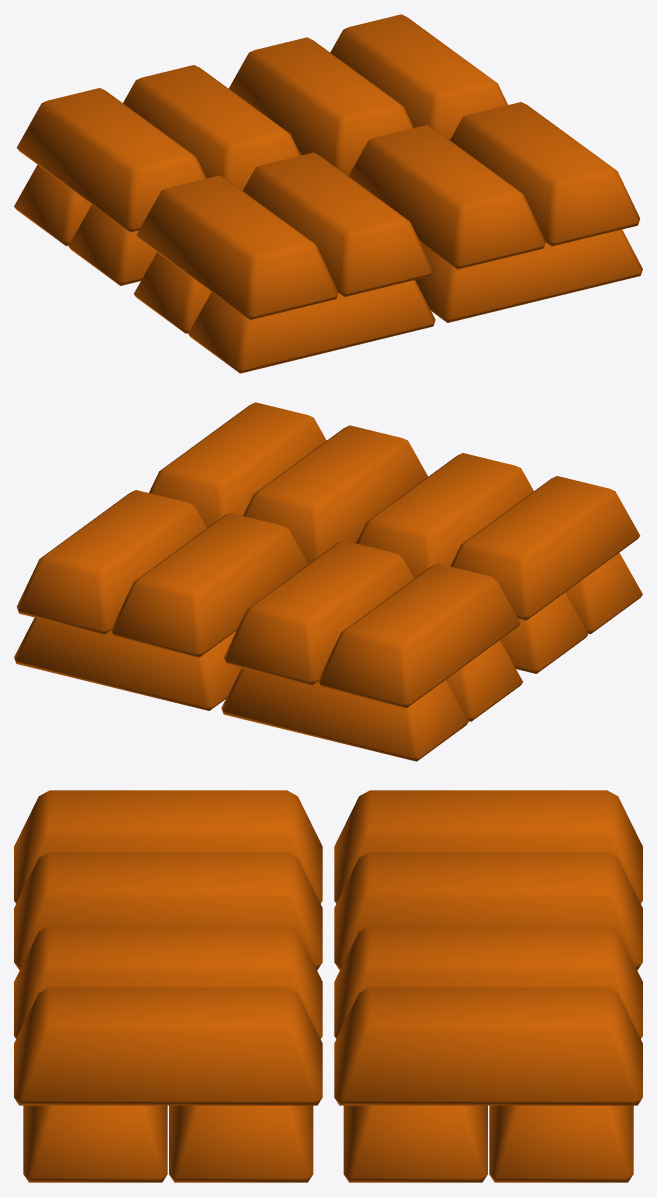
The model's file is SRA_Metal_Copper_Ingot_Stack_04.glb.
3 views of the same model, one above another, from view 1: azimuth 30°, elevation 25°; view 2: azimuth 150°, elevation 25°; view 3: azimuth 270°, elevation 25° (orthographic). The views are drawn at different scales.
Parts seen in each view (by area): view 1: Metal_Copper_Ingot_Stack_04; view 2: Metal_Copper_Ingot_Stack_04; view 3: Metal_Copper_Ingot_Stack_04.
Boxes of the visible parts, x1,y1,x2,y2 form: Metal_Copper_Ingot_Stack_04: [14, 14, 642, 373]; Metal_Copper_Ingot_Stack_04: [14, 402, 642, 761]; Metal_Copper_Ingot_Stack_04: [14, 790, 642, 1182].
Bounding box in the file's own units: 0.8642 × 0.2214 × 0.8642.
1 material, 1 textured.
